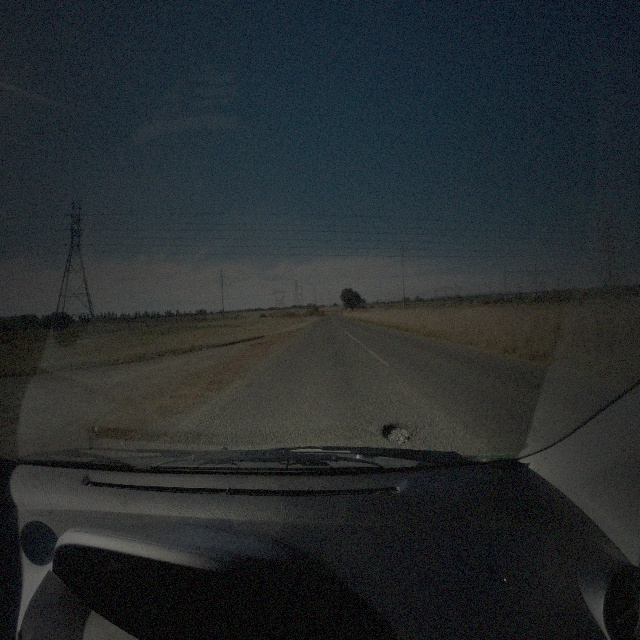pothole: (380, 416, 411, 444)
